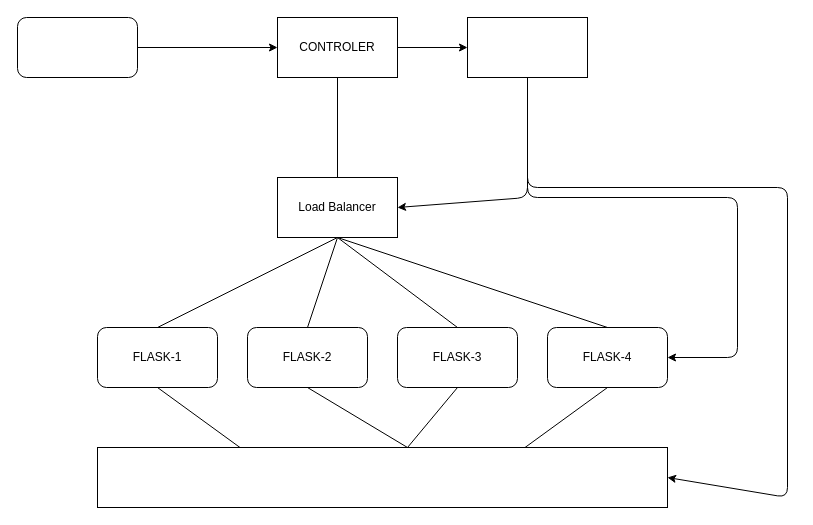
The diagram is 813 pixels wide and 525 high, and some of its shapes have lost their labels. The shapes that lost their labels are listed below. From the top down, each one's centre as x and y in pixels, then its label:
At (77,47): "Client".
At (527,47): "SELF RESTRT".
At (382,477): "DB".
